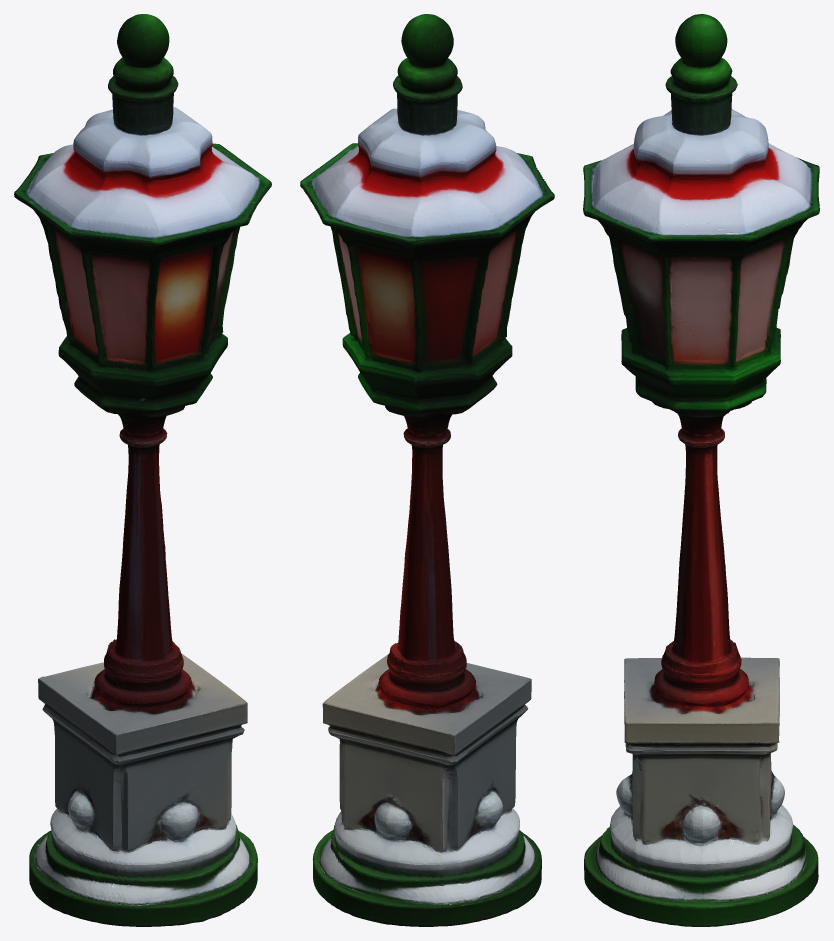
Rendered from tar.glb.
3 views of the same model, side by side, from view 1: azimuth 30°, elevation 25°; view 2: azimuth 150°, elevation 25°; view 3: azimuth 270°, elevation 25° (orthographic).
Parts seen in each view (by area): view 1: world; view 2: world; view 3: world.
Boxes of the visible parts, box(x1,y1,x2,y2) form: world: box(14, 14, 271, 926); world: box(300, 14, 554, 926); world: box(583, 14, 819, 926).
Size of the model in its own units: 0.2482 by 1 by 0.2491.
1 material, 1 textured.
